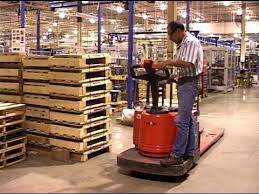Pallet Jack: (115, 57, 227, 179)
